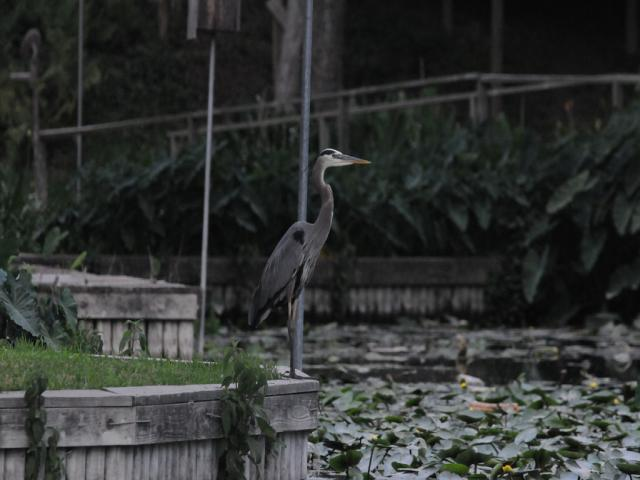Bird: (248, 150, 370, 380)
